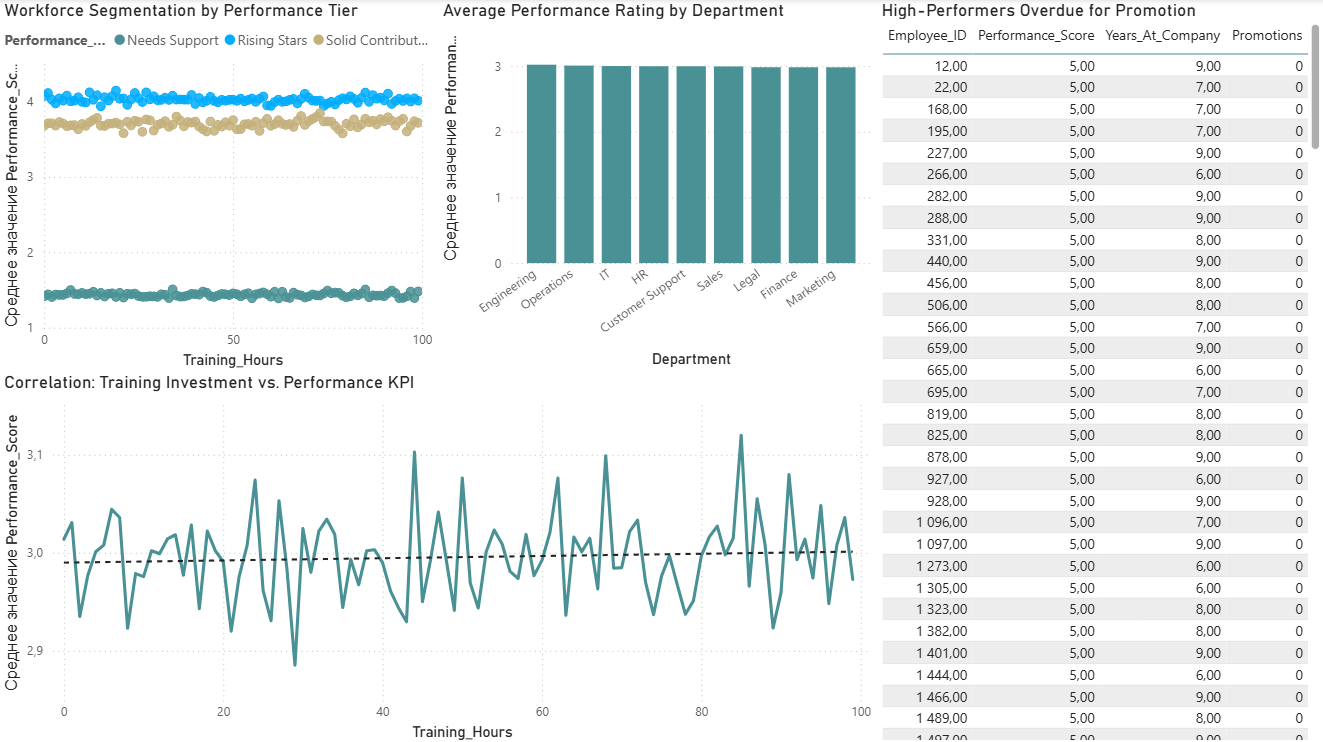

Layout of this report page (visuals, bound fields, positions):
{"tool":"powerbi","page":{"name":"Performance Intelligence","canvas":[1280,720],"ordinal":3},"visuals":[{"type":"scatterChart","title":"Workforce Segmentation by Performance Tier","fields":{"X":["processed_employee_data.Training_Hours"],"Y":["Avg(processed_employee_data.Performance_Score)"],"Series":["processed_employee_data.Performance_Tier"]},"box":[0,0,423.4,360.9],"z":0},{"type":"clusteredColumnChart","title":"Average Performance Rating by Department","fields":{"Category":["processed_employee_data.Department"],"Y":["Avg(processed_employee_data.Performance_Score)"]},"box":[423.4,0,423.4,360.9],"z":1000},{"type":"lineChart","title":"Correlation: Training Investment vs. Performance KPI","fields":{"Category":["processed_employee_data.Training_Hours"],"Y":["Avg(processed_employee_data.Performance_Score)"]},"box":[0,359.5,846.9,360.9],"z":2000},{"type":"tableEx","title":"High-Performers Overdue for Promotion","fields":{"Values":["processed_employee_data.Employee_ID","processed_employee_data.Performance_Score","processed_employee_data.Years_At_Company","processed_employee_data.Promotions"]},"box":[846.9,0,433.4,720.4],"z":3000}]}

Visuals, with their boxes in screenshot pixels (x1, y1, x2, y2), scaled from the page's 1280x720 canvas onto the 1323x742 screenshot:
"Workforce Segmentation by Performance Tier" scatterChart: select_region(0, 0, 438, 372)
"Average Performance Rating by Department" clusteredColumnChart: select_region(438, 0, 875, 372)
"Correlation: Training Investment vs. Performance KPI" lineChart: select_region(0, 370, 875, 741)
"High-Performers Overdue for Promotion" tableEx: select_region(875, 0, 1322, 741)
